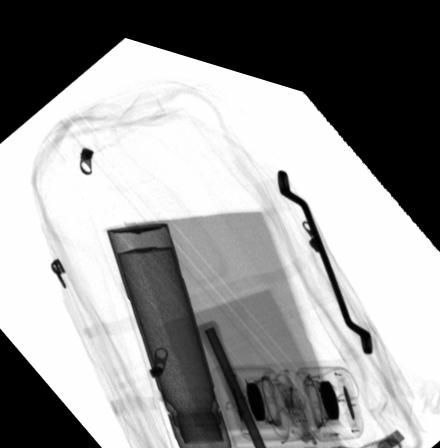Hammer: (195, 305, 279, 448)
Wrench: (277, 151, 372, 331)
